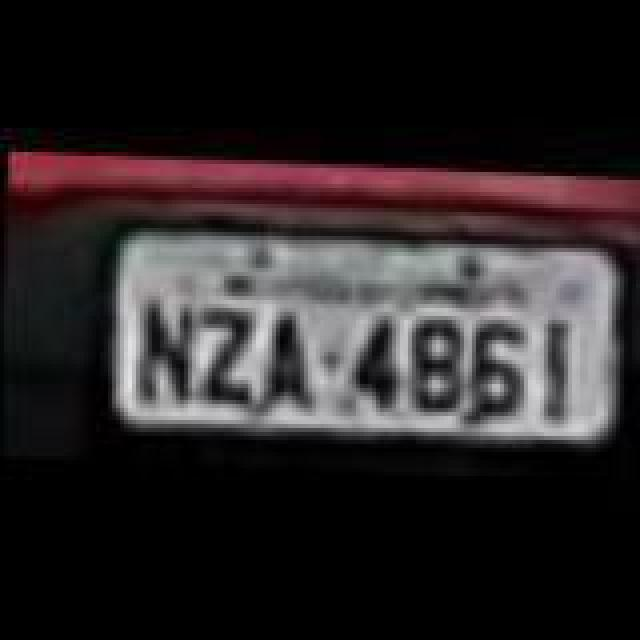1: (538, 322, 578, 422)
4: (346, 316, 410, 416)
6: (468, 322, 528, 426)
8: (406, 316, 470, 416)
A: (260, 304, 320, 412)
N: (134, 302, 198, 410)
Z: (196, 304, 256, 412)
